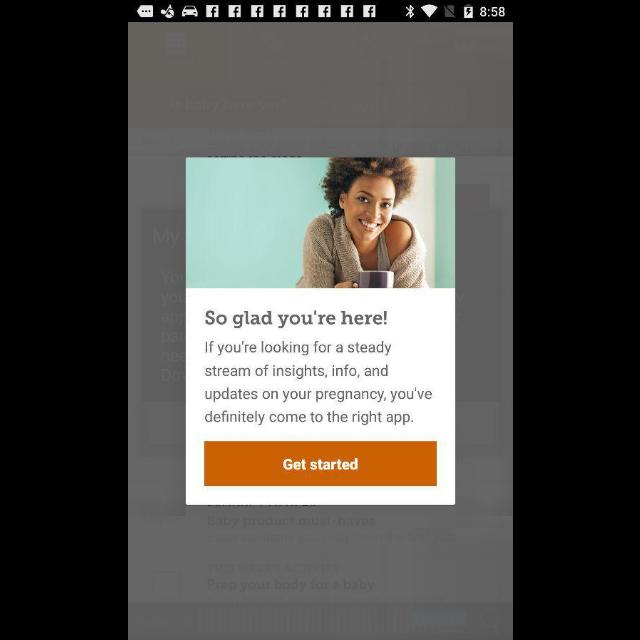image: (186, 158, 454, 288)
panel: (185, 158, 455, 506)
text: (204, 341, 432, 427), (206, 310, 387, 330)
textbutton: (204, 440, 436, 486)
uppertaskbar: (128, 1, 512, 23)
